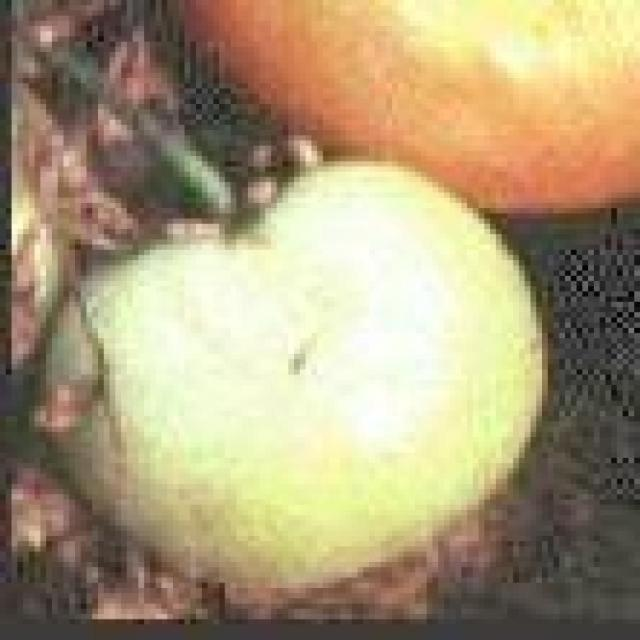Sunscald Fruit: (194, 35, 309, 232)
